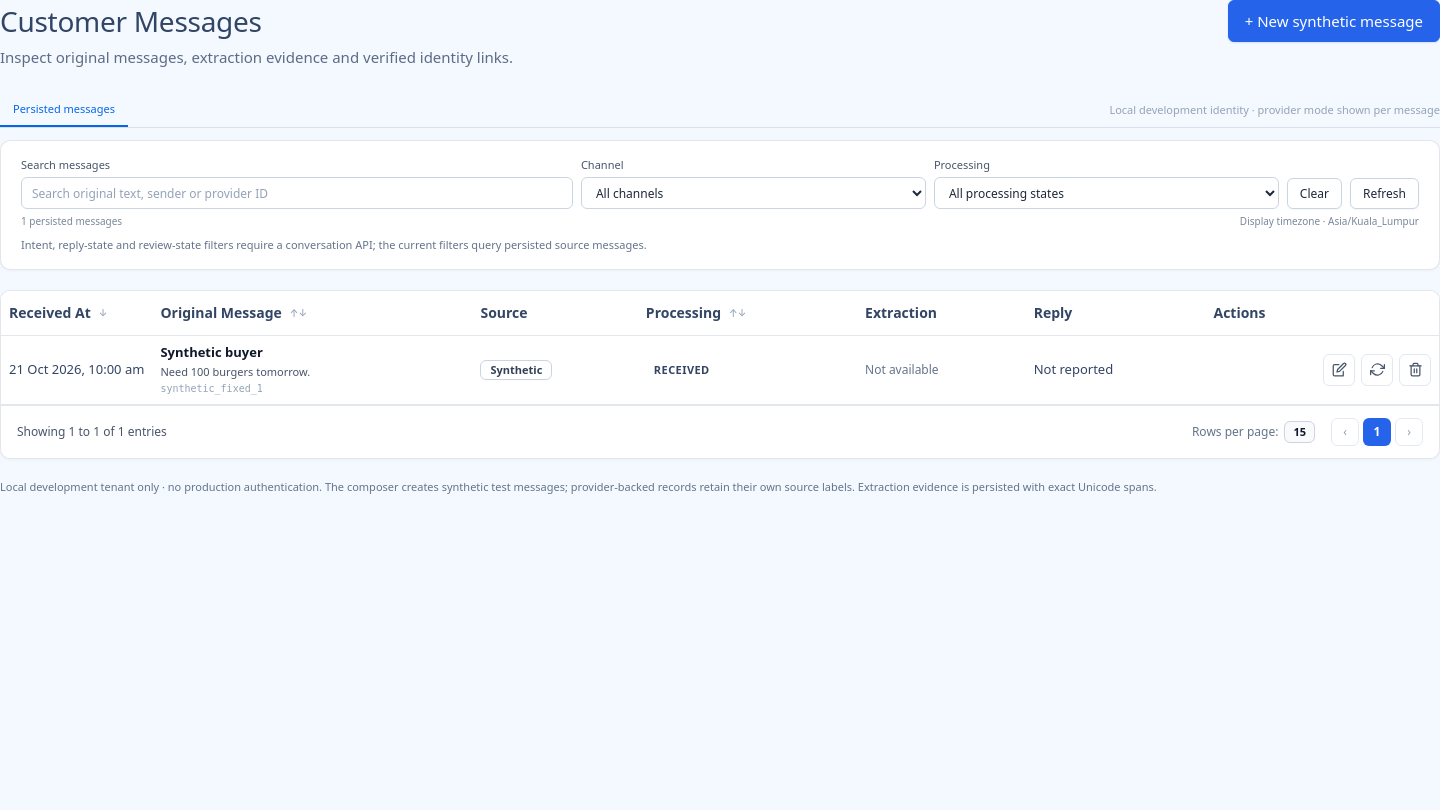
durable synthetic Inbox › keeps identity unavailable when the association read fails
Click the button named "View message synthetic_fixed_1".
click(1339, 370)  # box left=1323, top=354, right=1355, bottom=386
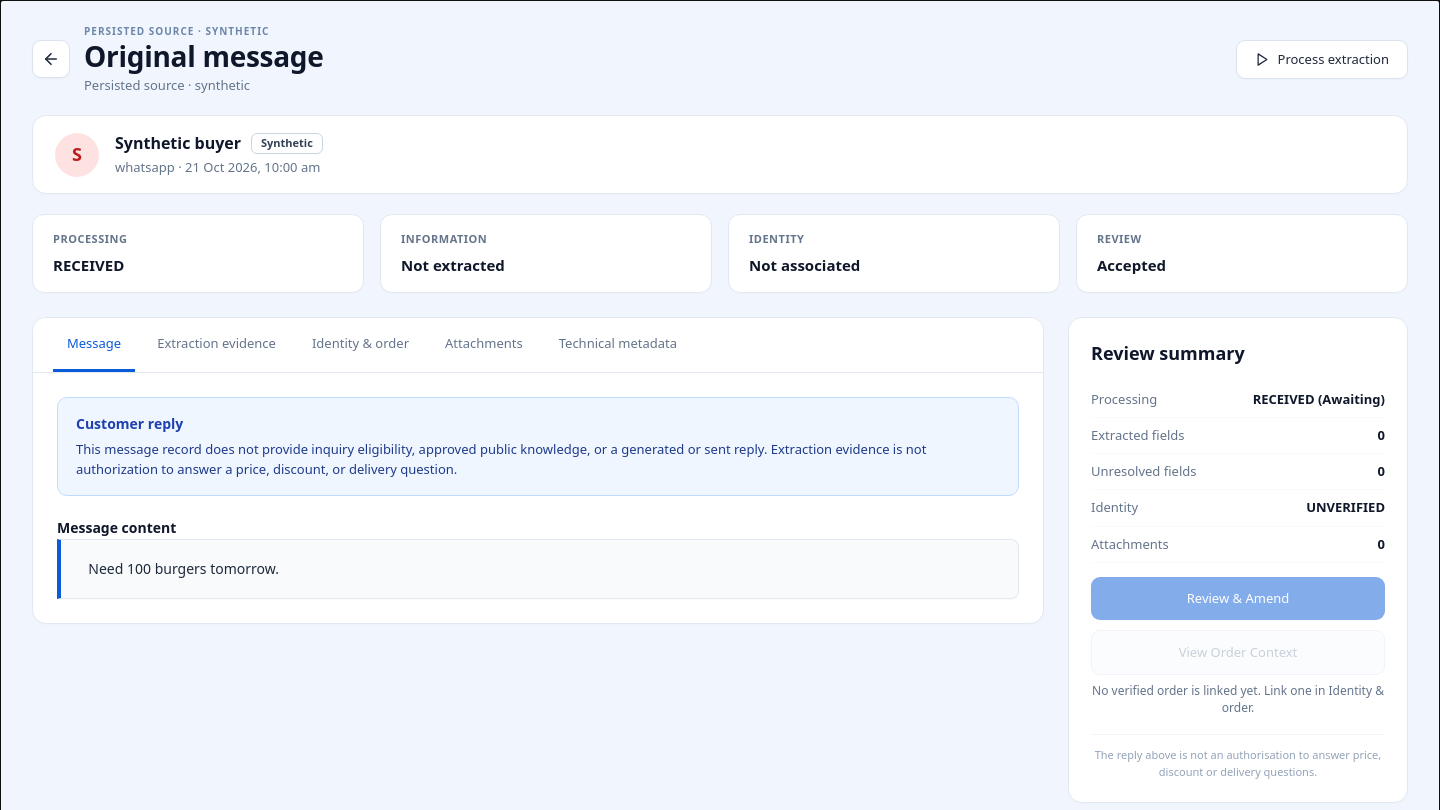
Result: the text "Not associated" is shown at left=749, top=255, right=860, bottom=275
